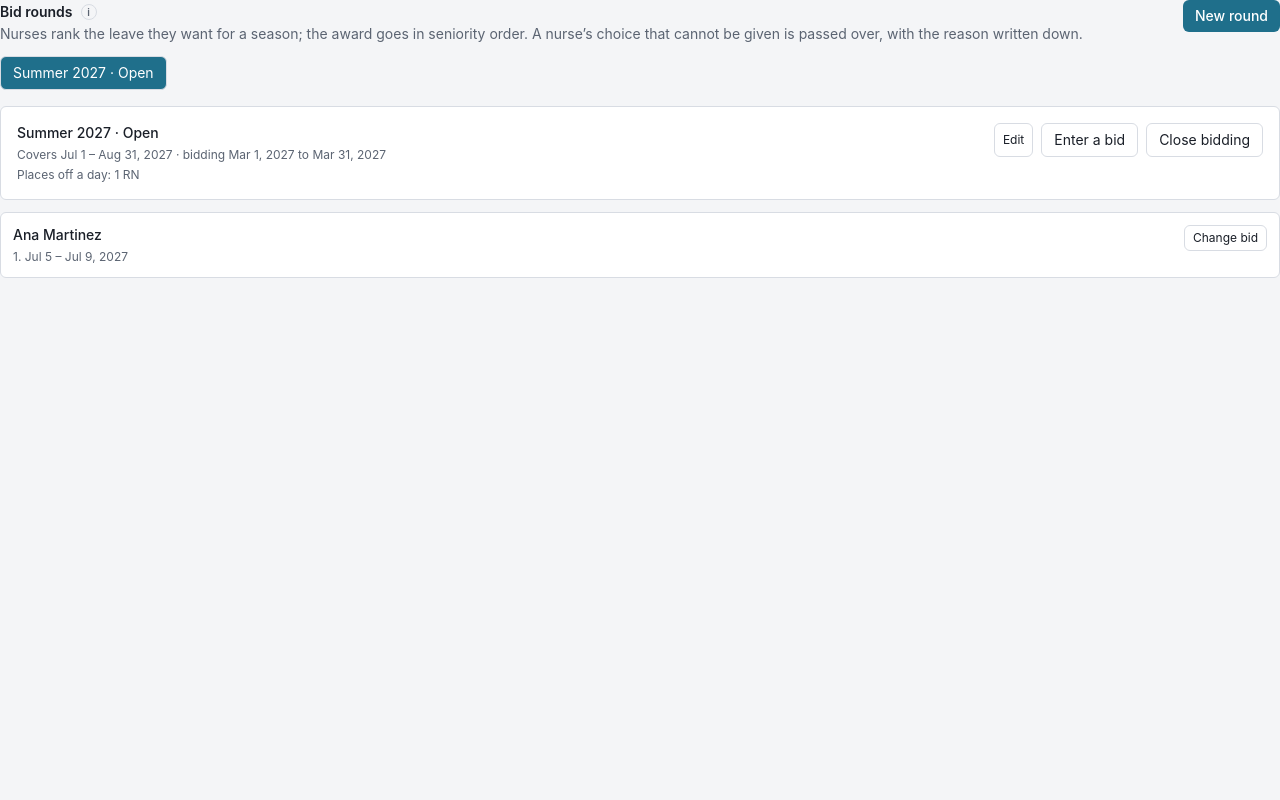
Scenario: bidding for summer leave on the Requests page › will not save a round whose season ends before it starts
The image size is (1280, 800).
Expected: the text "Ana Martinez" is shown, [13,226,102,243]
Click the button with test id "new-bid-round".
click(1232, 16)  # box [1183,0,1279,32]
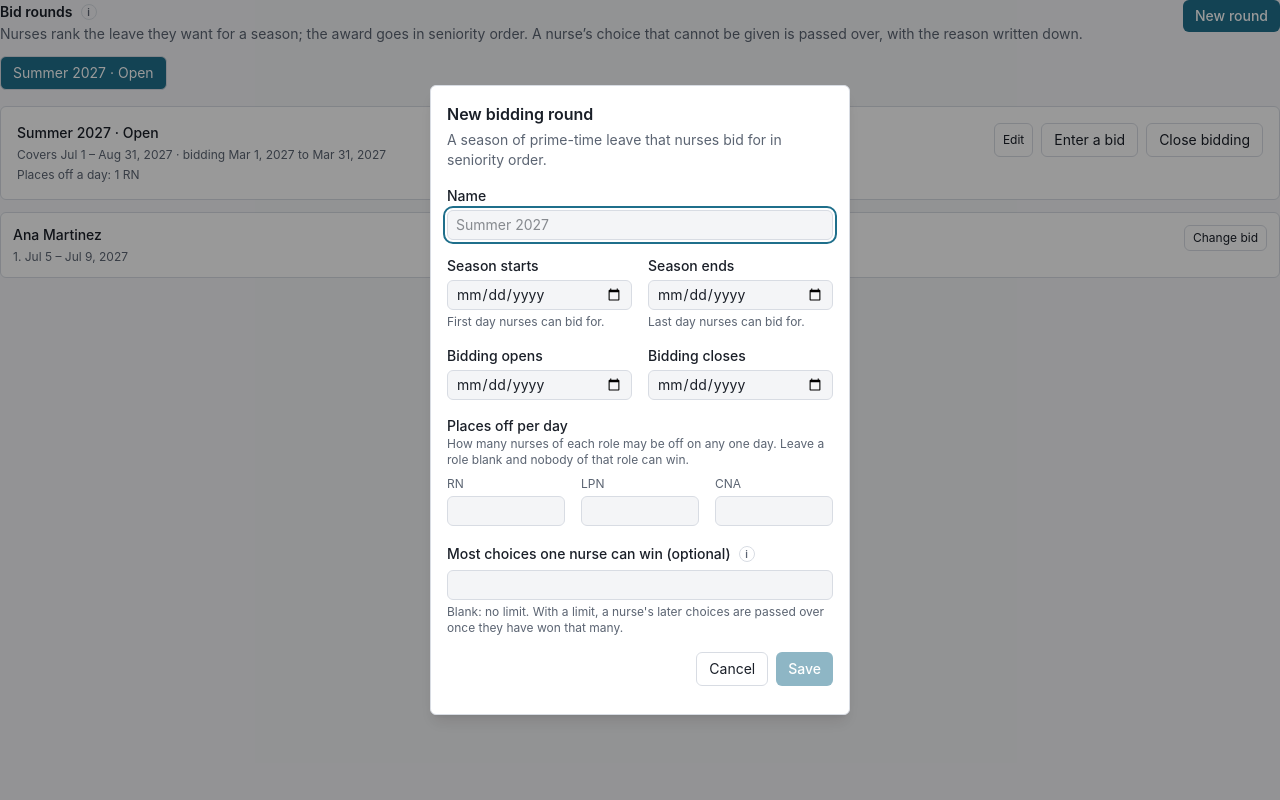
Type "Backwards" into the field labelled "Name".
click(640, 225); type("Backwards")  # box [447,210,833,240]
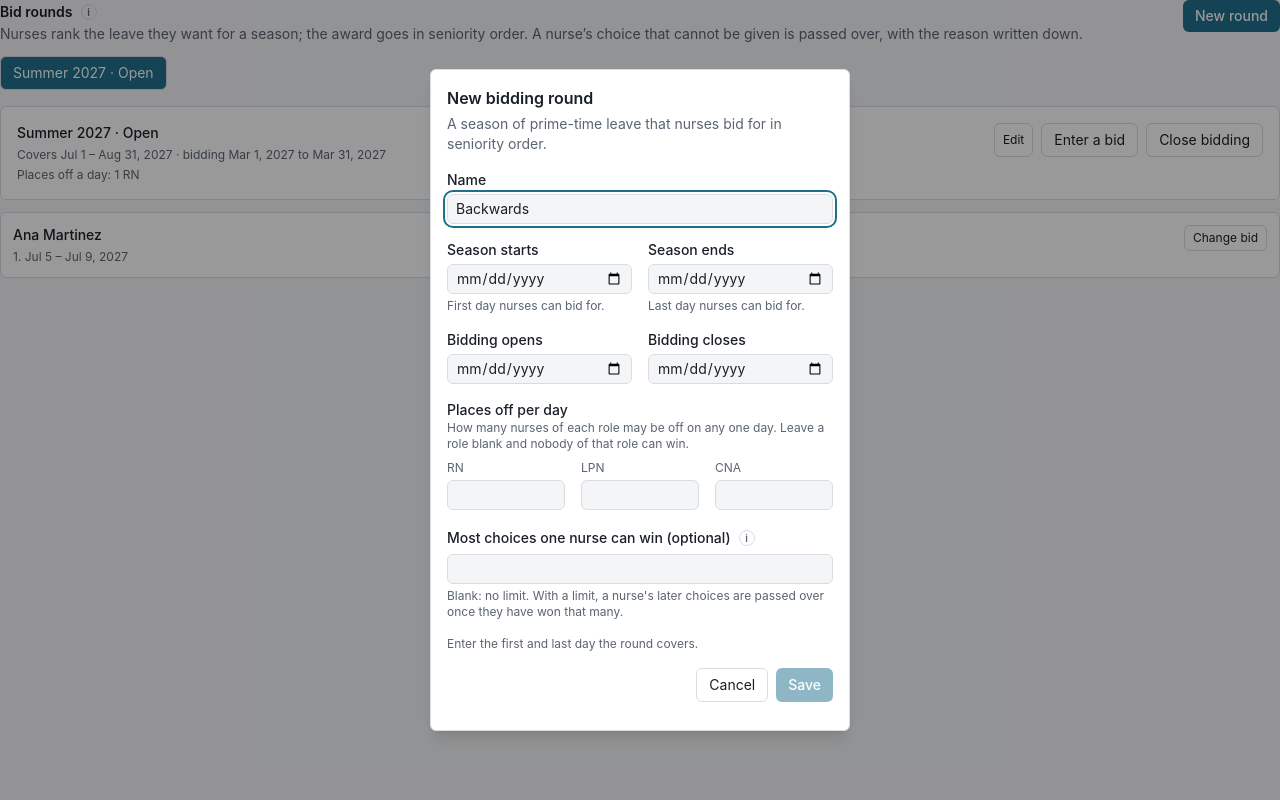
Type "2027-08-31" into the date field labelled "Season starts".
click(540, 279); type("2027-08-31")  # box [447,264,632,294]
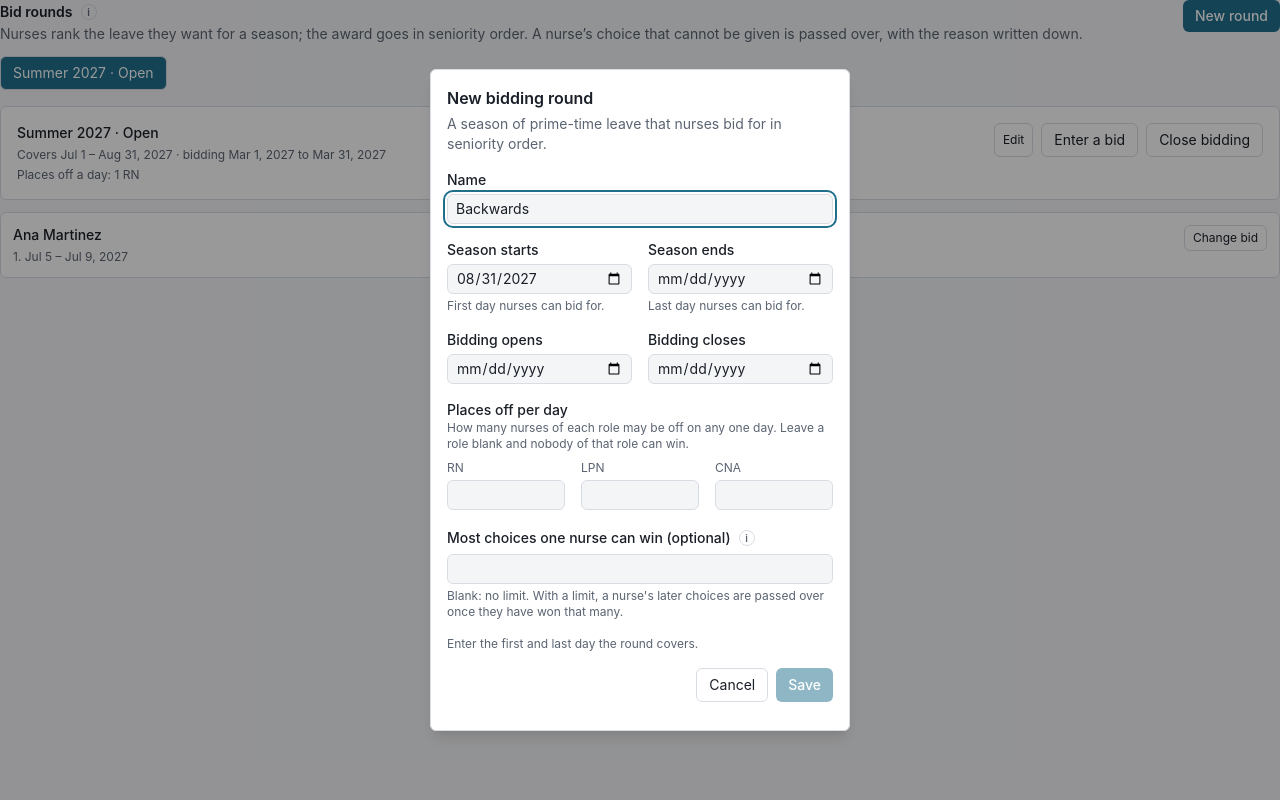
Type "2027-07-01" into the date field labelled "Season ends".
click(740, 279); type("2027-07-01")  # box [648,264,833,294]
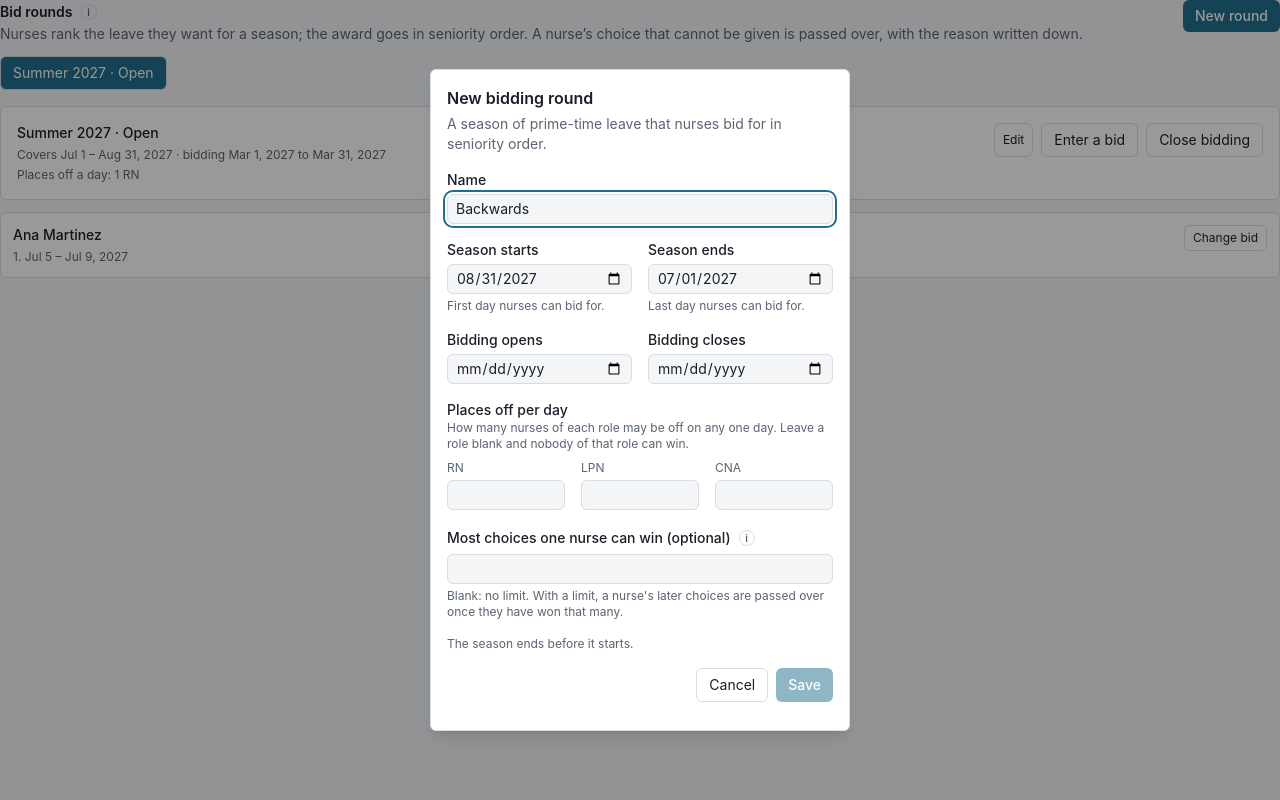
Result: the button "Save" is disabled at [776,668,833,702]
Result: the text "The season ends before it starts." is shown at [447,636,633,651]
